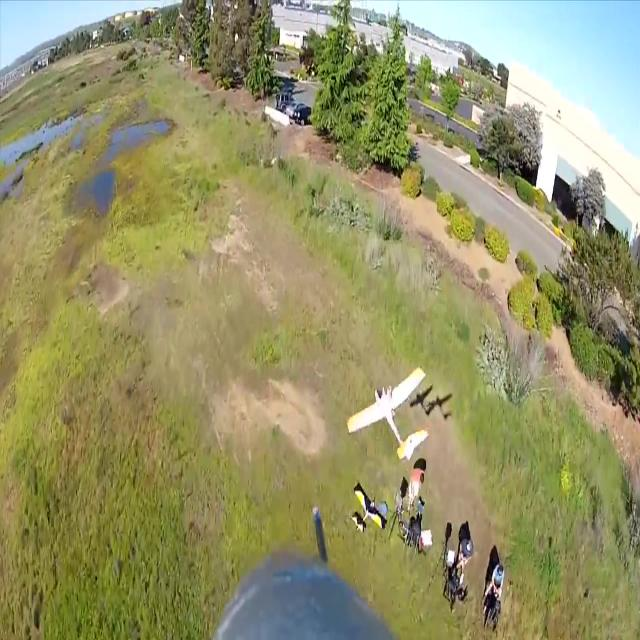iha: (351, 482, 388, 533), (378, 398, 398, 429)
